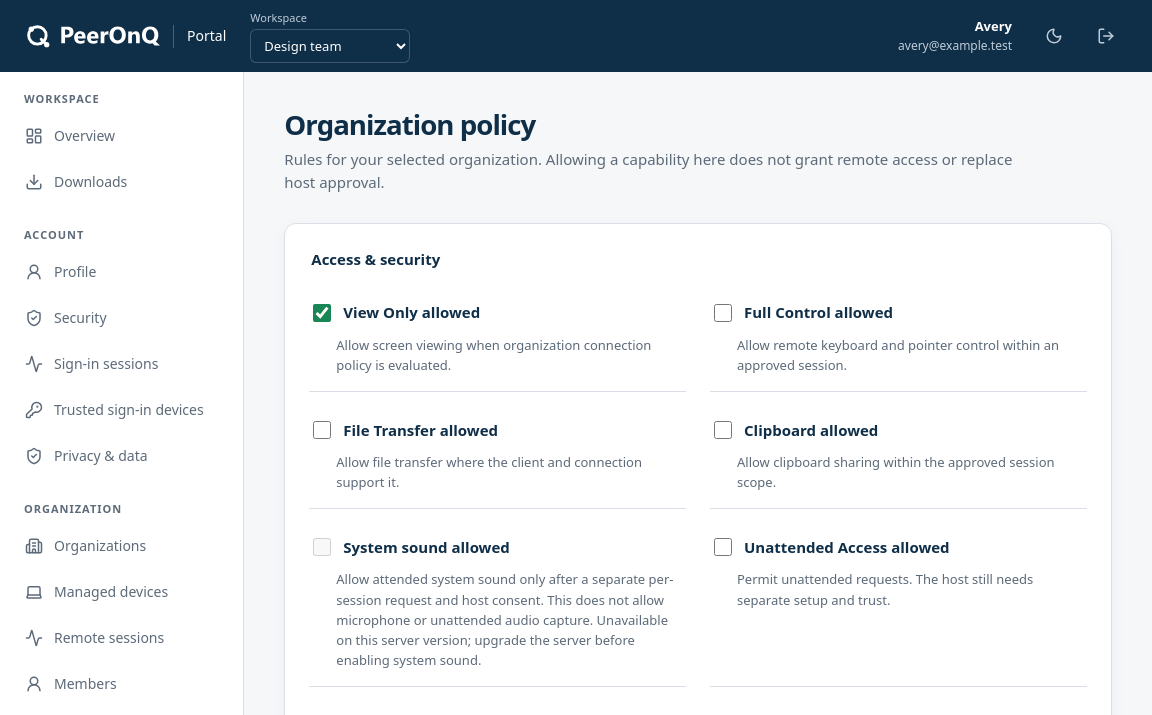
customer portal product UX › does not move an edited policy or stale success message to another organization
The width and height of the screenshot is (1152, 715).
Click the checkbox labelled "Full Control allowed".
click(723, 313)  # box [714,304,732,322]
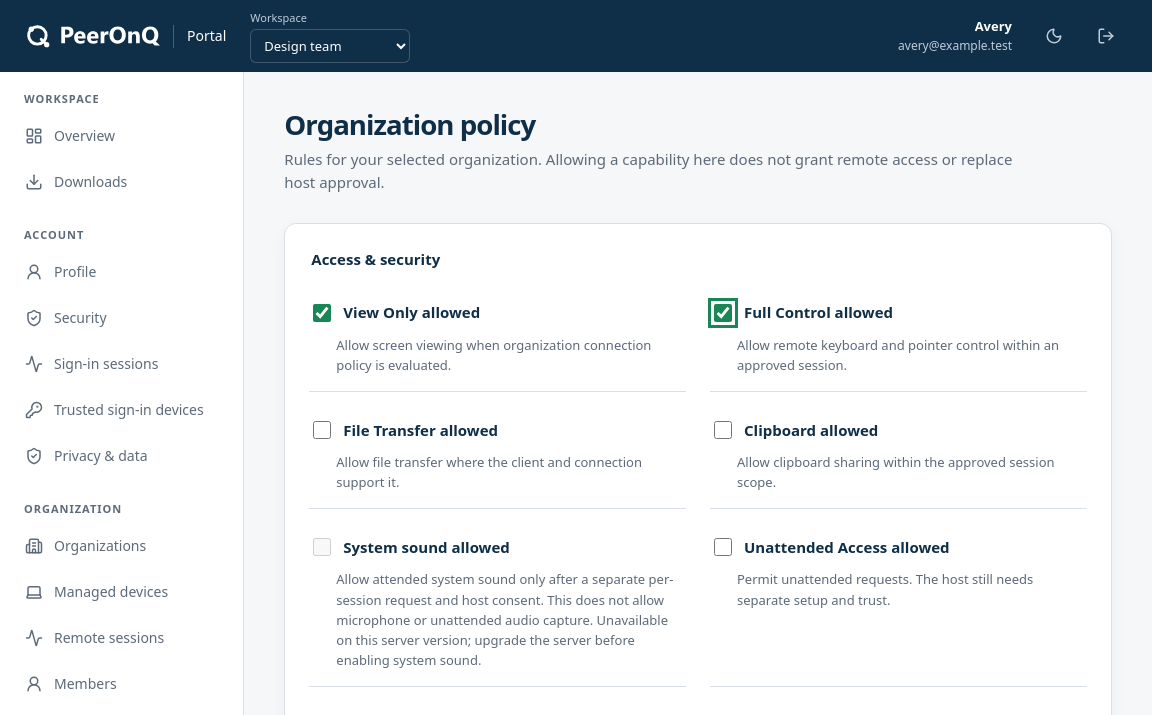
Select "Support team" in the dropdown named "Active organization" at (330, 46), box [250,28,410,62]
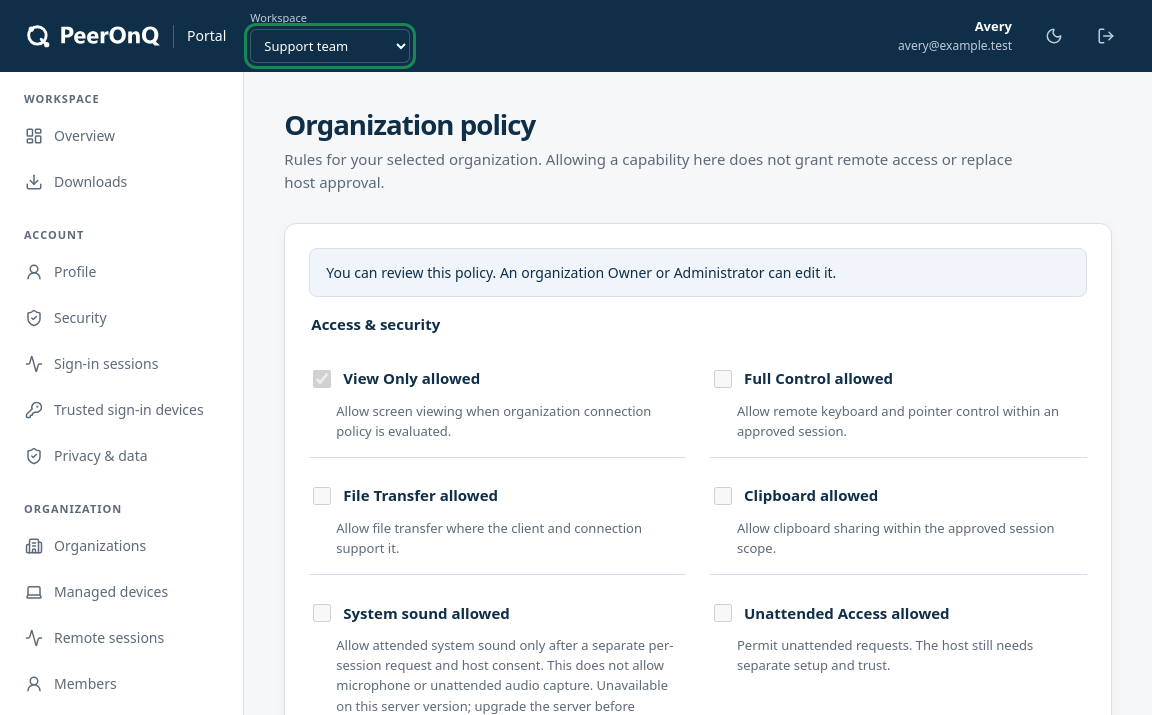
Expected: the checkbox labelled "View Only allowed" is disabled, [313,370,331,388]
Now the text "You can review this policy" is shown, box [326,263,836,282]
Now the checkbox labelled "Full Control allowed" is not checked, box [714,370,732,388]
